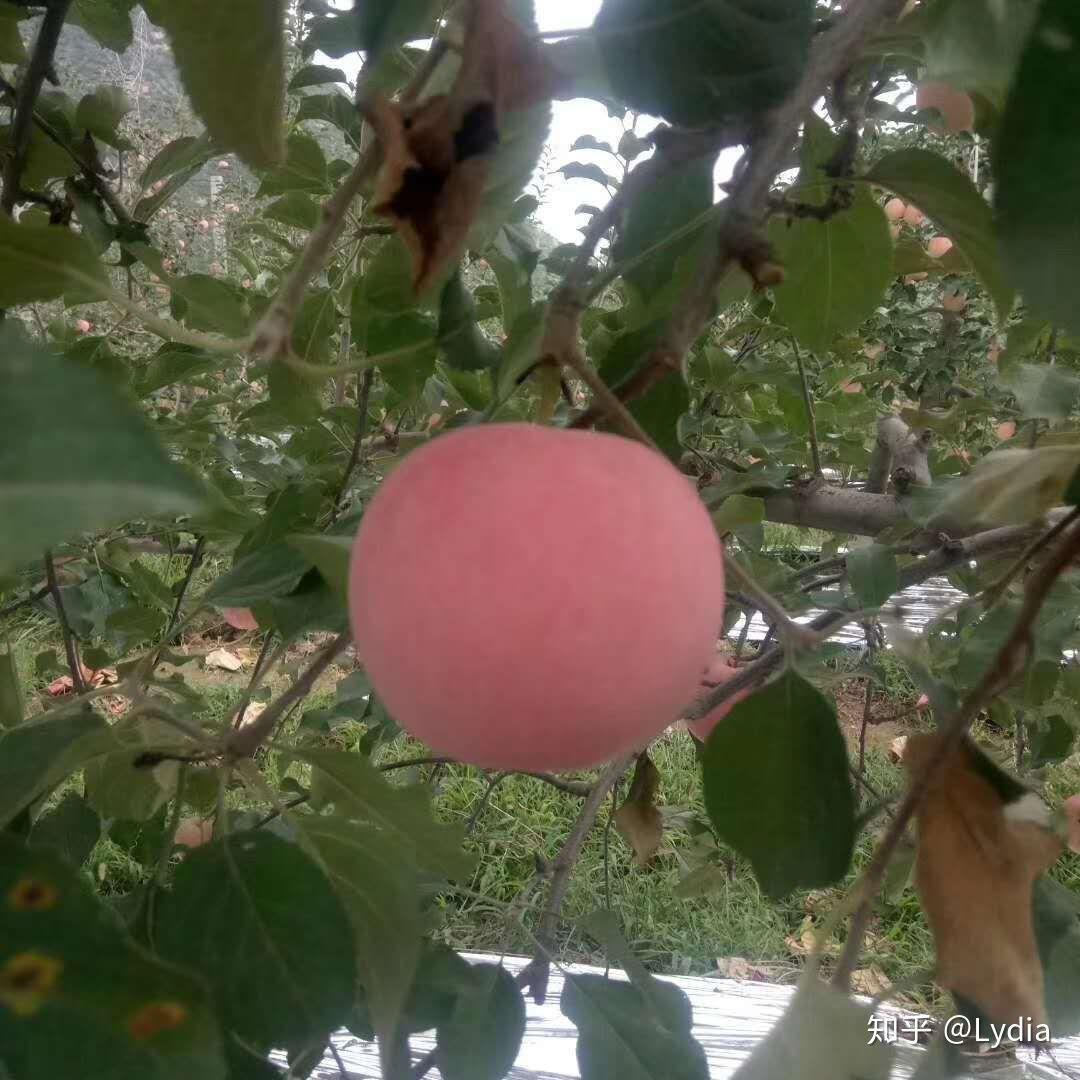apple: (338, 413, 723, 766)
